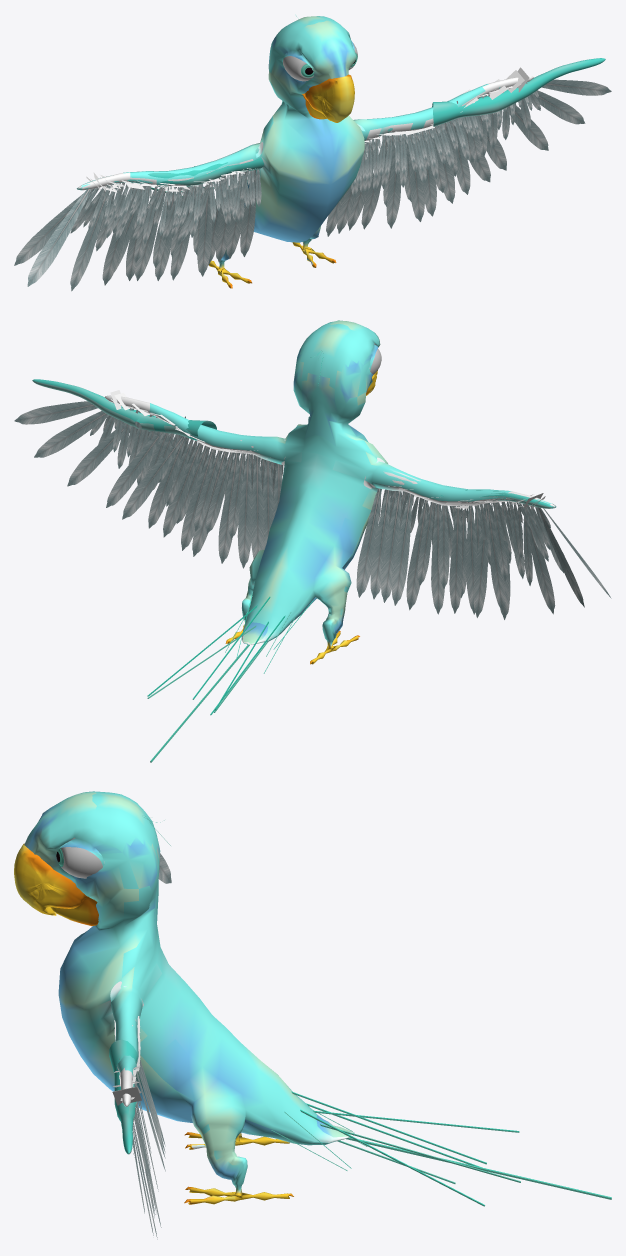
The model's file is Parrot.fbx.
3 renders of one model, top to bottom at view 1: azimuth 30°, elevation 25°; view 2: azimuth 150°, elevation 25°; view 3: azimuth 270°, elevation 25°, orthographic. The views are drawn at different scales.
Parts seen in each view (by area): view 1: Body, Wing2nd, Beak, FullWing2nd|WingFeather.001|Dupli|110.22.0.0.0.0.0.0.0.0, FullWing2nd|WingFeather.001|Dupli|111.22.0.0.0.0.0.0.0.0, FullWing2nd|WingFeather.001|Dupli|109.22.0.0.0.0.0.0.0.0, FullWing2nd|WingFeather.001|Dupli|52.22.0.0.0.0.0.0.0.0, FullWing1st|WingFeather|Dupli|111.24.0.0.0.0.0.0.0.0, FullWing1st, FullWing1st|WingFeather|Dupli|110.24.0.0.0.0.0.0.0.0, FullWing1st|WingFeather|Dupli|50.24.0.0.0.0.0.0.0.0, FullWing2nd (+17 smaller); view 2: Body, Wing2nd, FullWing2nd|WingFeather.001|Dupli|73.22.0.0.0.0.0.0.0.0, FullWing2nd|WingFeather.001|Dupli|48.22.0.0.0.0.0.0.0.0, FullWing1st|WingFeather|Dupli|48.24.0.0.0.0.0.0.0.0, FullWing1st|WingFeather|Dupli|108.24.0.0.0.0.0.0.0.0, FullWing1st|WingFeather|Dupli|107.24.0.0.0.0.0.0.0.0, FullWing2nd|WingFeather.001|Dupli|72.22.0.0.0.0.0.0.0.0, FullWing2nd|WingFeather.001|Dupli|71.22.0.0.0.0.0.0.0.0, FullWing1st|WingFeather|Dupli|110.24.0.0.0.0.0.0.0.0, FullWing1st|WingFeather|Dupli|71.24.0.0.0.0.0.0.0.0, FullWing1st|WingFeather|Dupli|111.24.0.0.0.0.0.0.0.0 (+20 smaller); view 3: Body, Beak, Wing2nd, Eyes, Feather, FullWing1st.
Part boxes in pixels (x1,y1,x2,y2): Body: (77,16,533,288); Wing2nd: (85,58,605,186); Beak: (302,74,354,122); FullWing2nd|WingFeather.001|Dupli|110.22.0.0.0.0.0.0.0.0: (27,189,91,286); FullWing2nd|WingFeather.001|Dupli|111.22.0.0.0.0.0.0.0.0: (70,185,109,291); FullWing2nd|WingFeather.001|Dupli|109.22.0.0.0.0.0.0.0.0: (14,188,95,265); FullWing2nd|WingFeather.001|Dupli|52.22.0.0.0.0.0.0.0.0: (197,182,211,276); FullWing1st|WingFeather|Dupli|111.24.0.0.0.0.0.0.0.0: (541,79,611,95); FullWing1st: (364,67,529,143); FullWing1st|WingFeather|Dupli|110.24.0.0.0.0.0.0.0.0: (534,90,585,124); FullWing1st|WingFeather|Dupli|50.24.0.0.0.0.0.0.0.0: (386,140,401,228); FullWing2nd: (86,168,255,192); Body: (104,320,555,664); Wing2nd: (32,379,552,508); FullWing2nd|WingFeather.001|Dupli|73.22.0.0.0.0.0.0.0.0: (392,493,412,605); FullWing2nd|WingFeather.001|Dupli|48.22.0.0.0.0.0.0.0.0: (356,488,381,597); FullWing1st|WingFeather|Dupli|48.24.0.0.0.0.0.0.0.0: (237,453,251,568); FullWing1st|WingFeather|Dupli|108.24.0.0.0.0.0.0.0.0: (122,435,183,519); FullWing1st|WingFeather|Dupli|107.24.0.0.0.0.0.0.0.0: (106,432,164,507); FullWing2nd|WingFeather.001|Dupli|72.22.0.0.0.0.0.0.0.0: (381,491,401,602); FullWing2nd|WingFeather.001|Dupli|71.22.0.0.0.0.0.0.0.0: (370,490,390,599); FullWing1st|WingFeather|Dupli|110.24.0.0.0.0.0.0.0.0: (34,405,121,457); FullWing1st|WingFeather|Dupli|71.24.0.0.0.0.0.0.0.0: (250,456,264,558); FullWing1st|WingFeather|Dupli|111.24.0.0.0.0.0.0.0.0: (14,401,97,424); Body: (24,791,354,1204); Beak: (14,843,98,926); Wing2nd: (109,1039,137,1154); Eyes: (56,847,102,878); Feather: (346,1137,611,1199); FullWing1st: (112,1016,141,1105).
Bounding box in the file's own units: 883 × 427 × 576.
7 materials, 1 textured.
